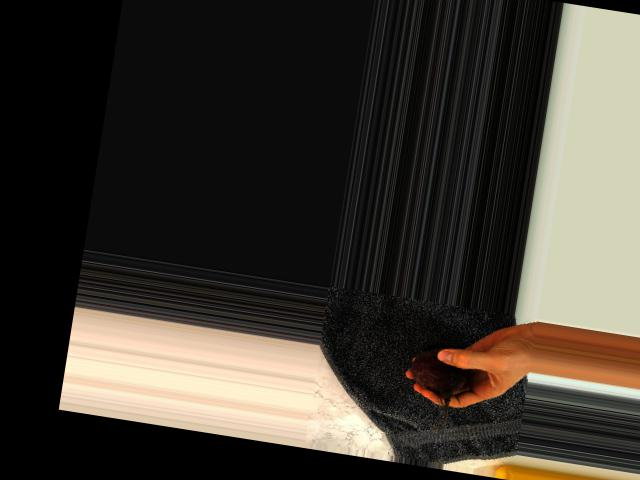beet: (401, 339, 472, 434)
